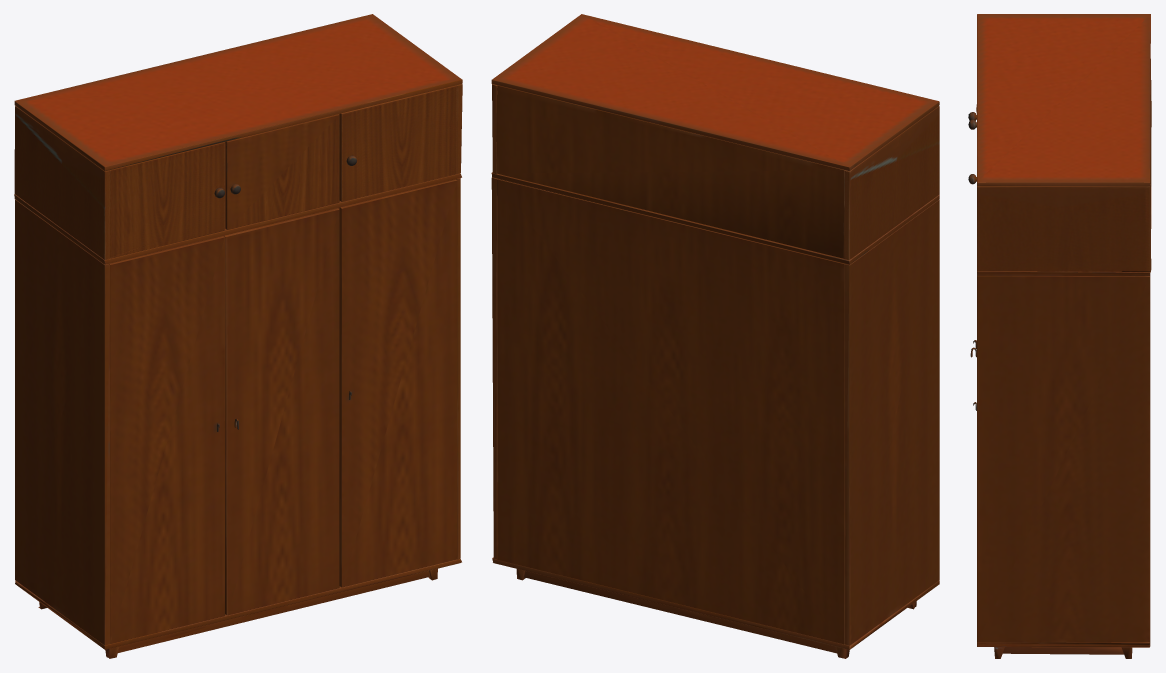
The model's file is wardrobe.glb.
3 renders of one model, left to right at view 1: azimuth 30°, elevation 25°; view 2: azimuth 150°, elevation 25°; view 3: azimuth 270°, elevation 25°, orthographic. The views are drawn at different scales.
Visible parts, largest first — view 1: Mesh_0; view 2: Mesh_0; view 3: Mesh_0.
Part boxes in pixels (bbox=[...]): Mesh_0: bbox=[14, 14, 462, 658]; Mesh_0: bbox=[491, 14, 939, 658]; Mesh_0: bbox=[968, 14, 1151, 658].
Size of the model in its own units: 1.38 by 1.85 by 0.6341.
Materials: 1 (1 with a texture image).
